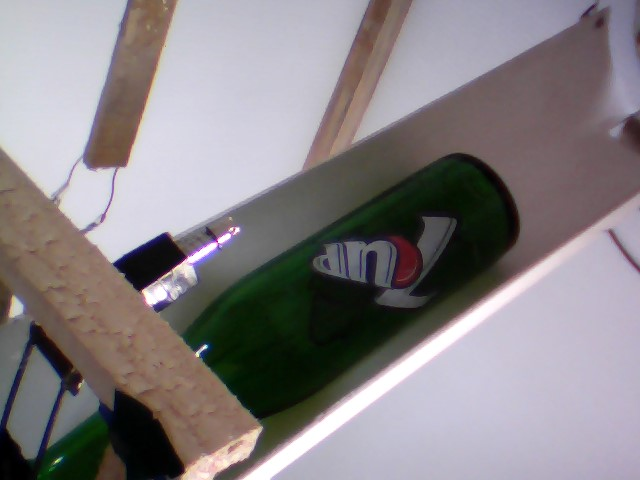vidrio: (166, 140, 529, 418)
